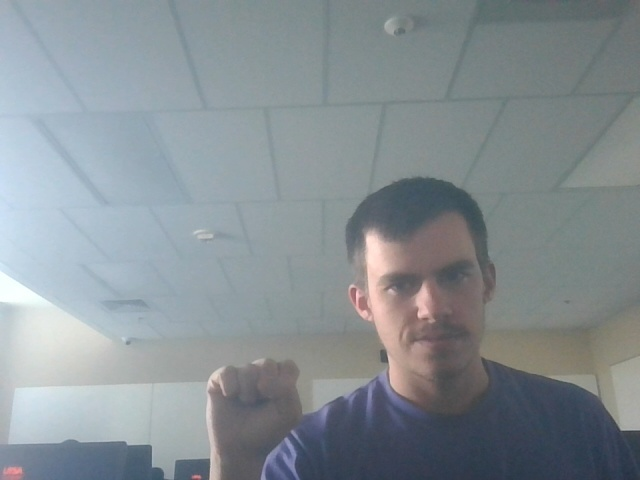yes: (194, 355, 320, 453)
